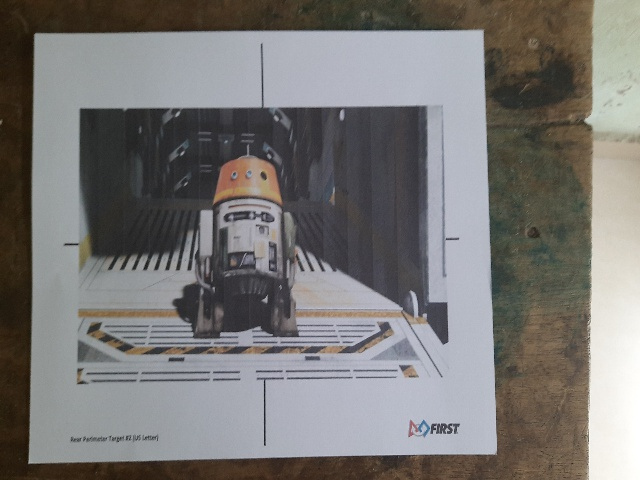rept2: (63, 72, 479, 444)
